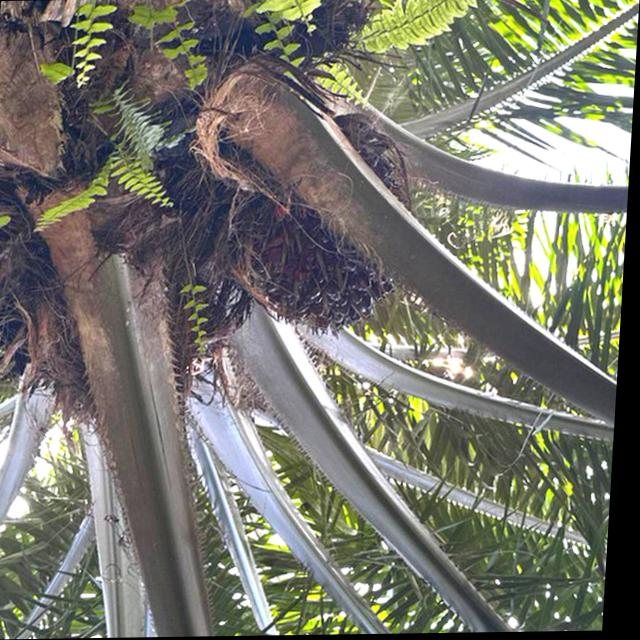ripe: (215, 110, 421, 355)
